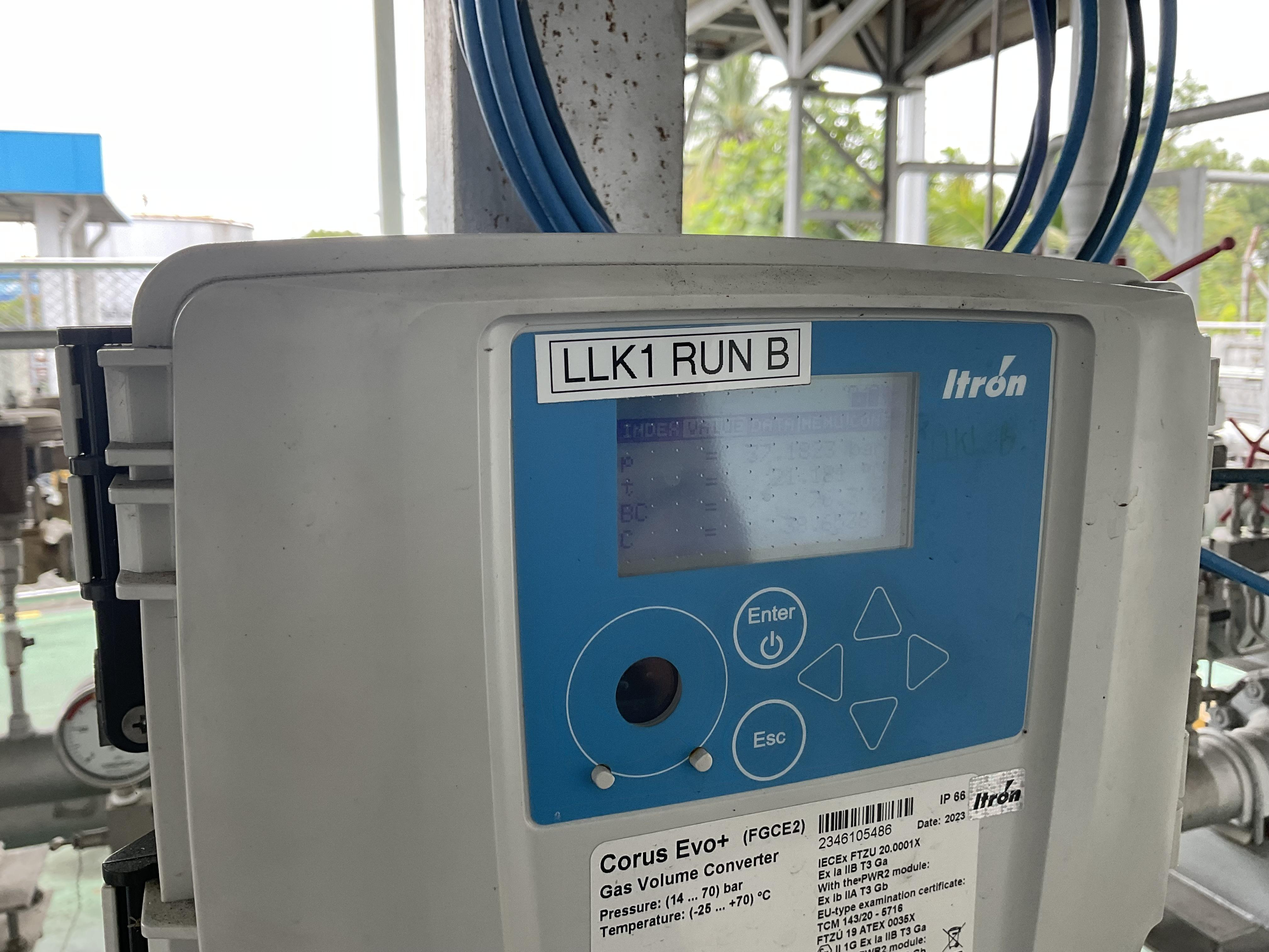digital_screen: (614, 373, 924, 578)
